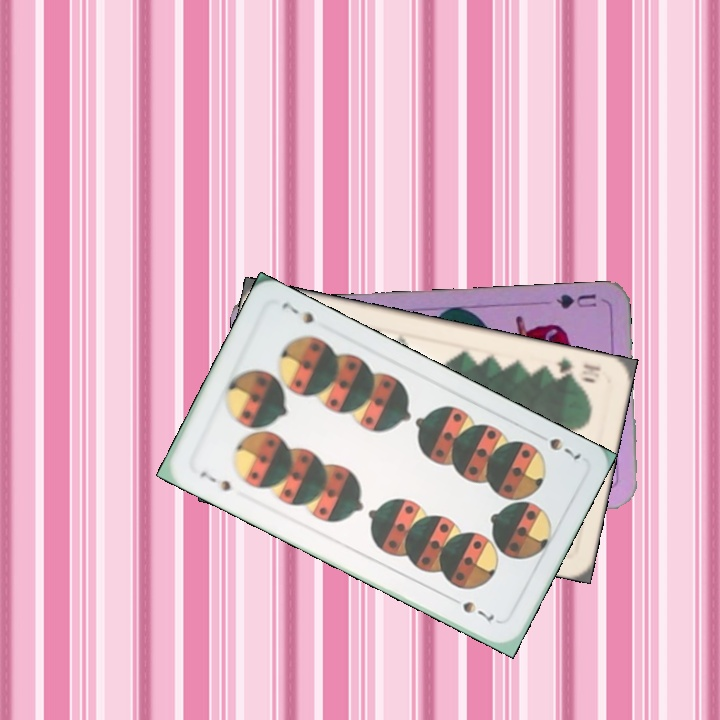G10: (553, 353, 603, 381)
GU: (552, 289, 599, 311)
S7: (545, 433, 583, 465), (195, 467, 234, 495)
